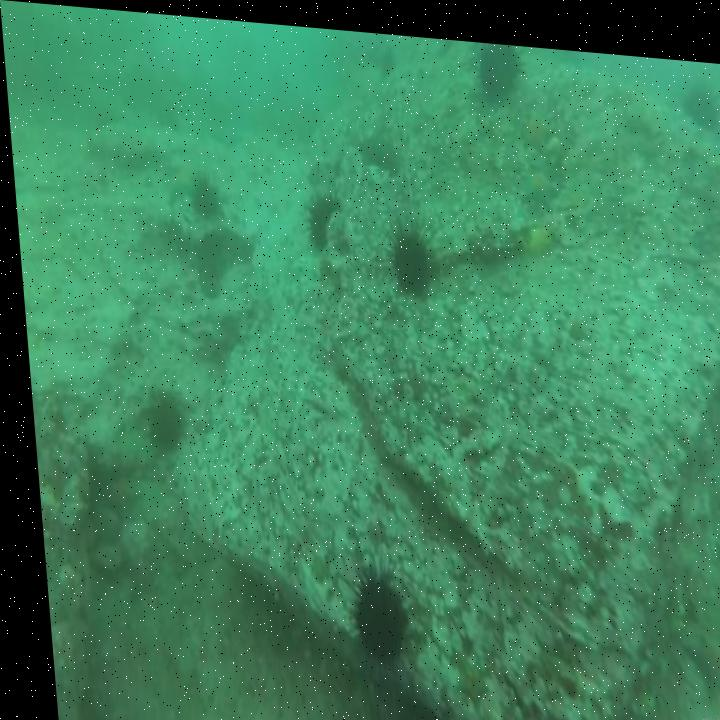echinus: (330, 556, 405, 670), (377, 213, 440, 295), (132, 386, 182, 464), (475, 33, 522, 100), (298, 180, 341, 251), (676, 67, 720, 127), (180, 163, 222, 221)
holothurian: (187, 218, 256, 303)
starfish: (671, 613, 720, 707), (436, 632, 482, 715), (513, 89, 559, 149), (513, 151, 564, 204)
